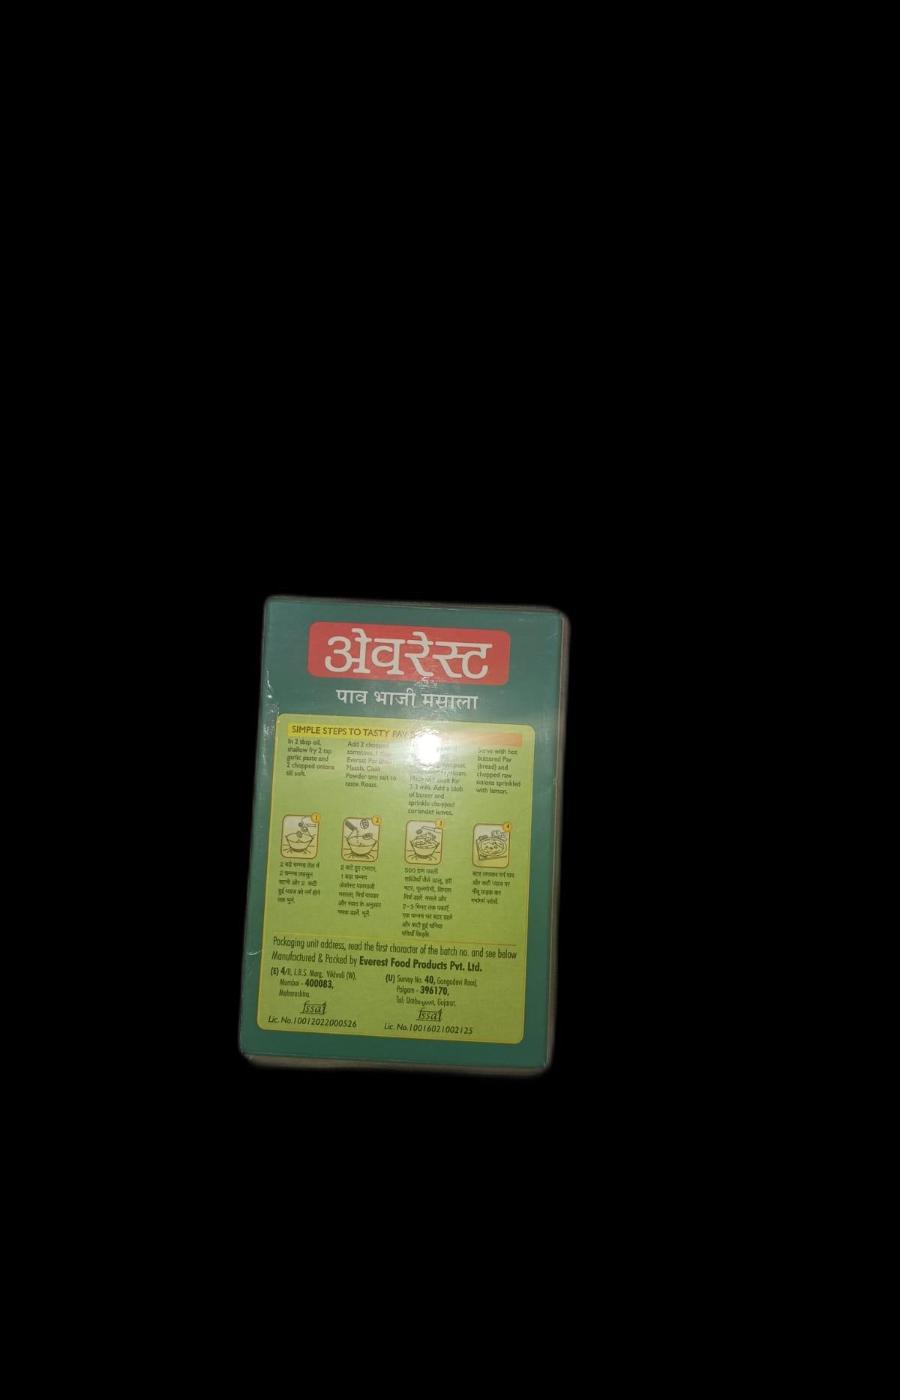Everest Pav Bhaji Masala 100 g: (237, 581, 559, 1078)
